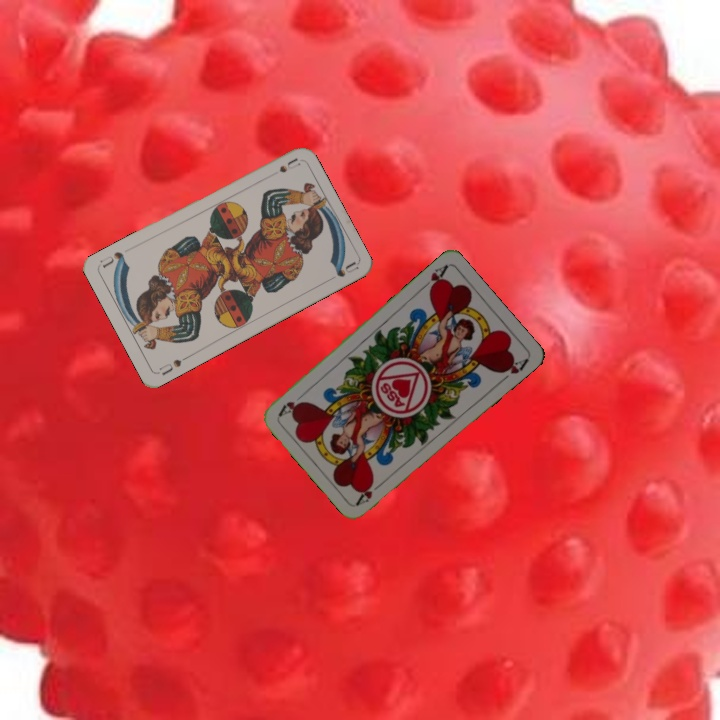HA: (417, 261, 450, 294), (352, 477, 387, 508)
SU: (154, 351, 192, 378), (275, 154, 303, 175)
